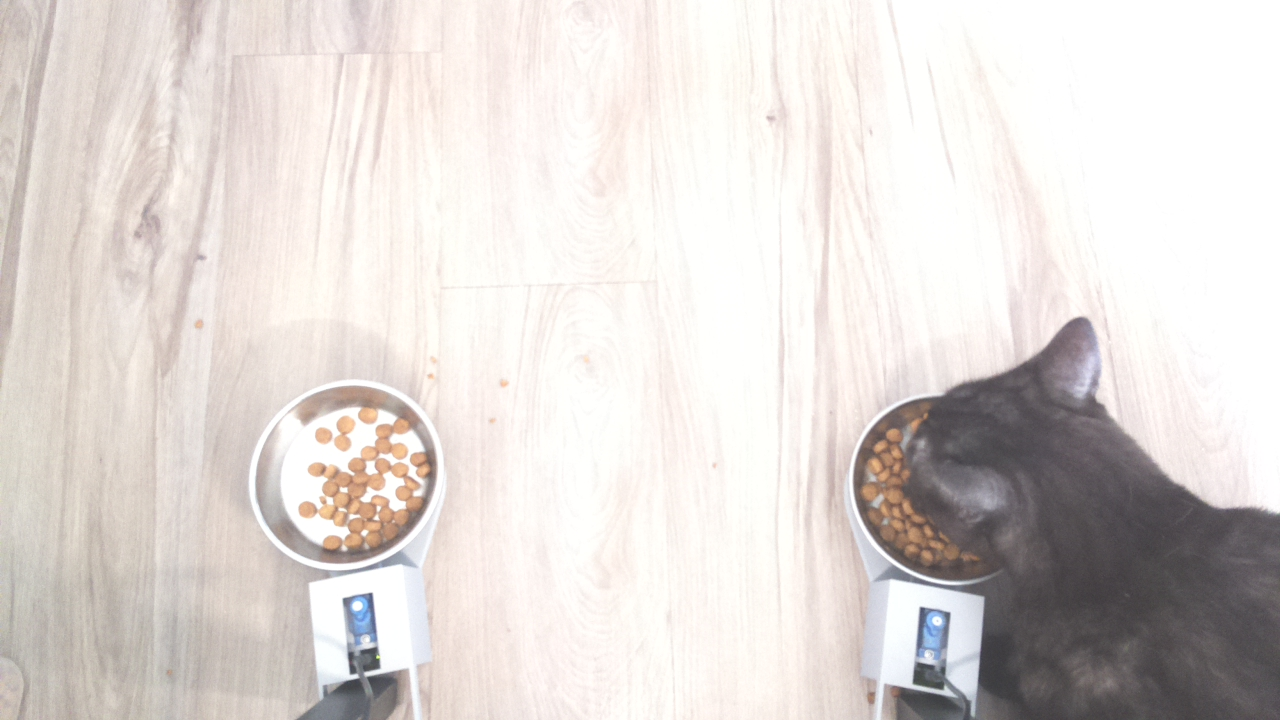open_bowl: (245, 376, 447, 572)
saki_eating: (849, 309, 1166, 612)
